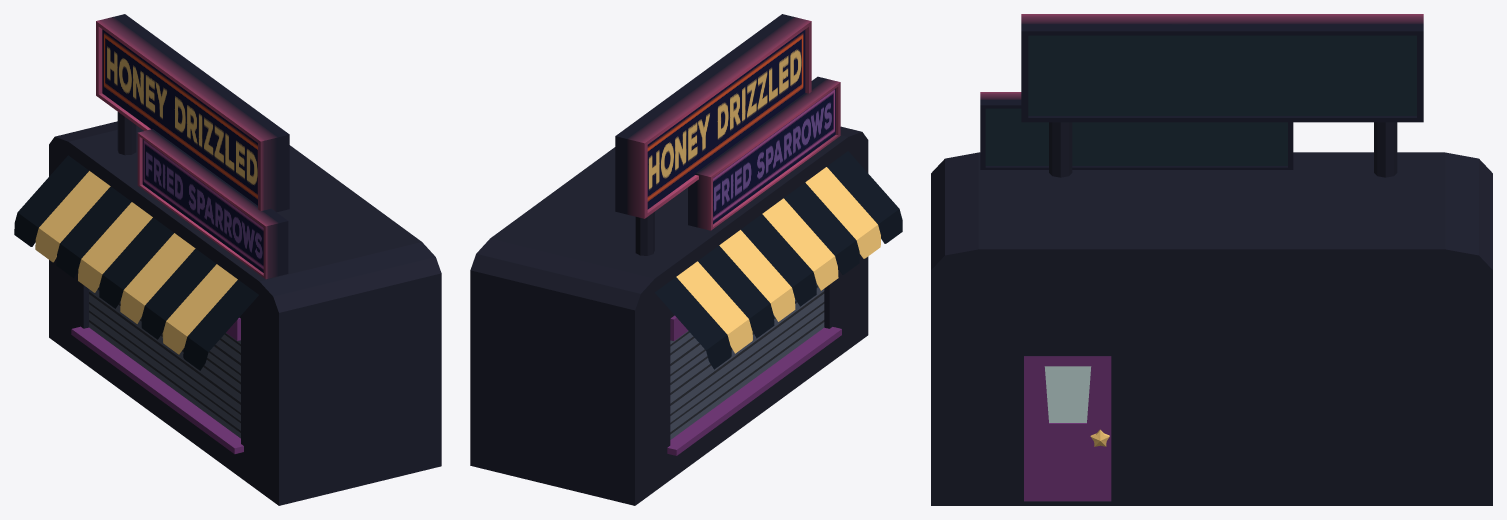
Rendered from Building_StreetCart04.fbx.
3 views of the same model, side by side, from view 1: azimuth 30°, elevation 25°; view 2: azimuth 150°, elevation 25°; view 3: azimuth 270°, elevation 25° (orthographic). The views are drawn at different scales.
Parts seen in each view (by area): view 1: Cube.715, Cube.719, Cube.713; view 2: Cube.715, Cube.719, Cube.713; view 3: Cube.715, Cube.719, Cube.718.
Boxes of the visible parts, <box> form: Cube.715: <box>14,121,441,505</box>; Cube.719: <box>96,14,289,279</box>; Cube.713: <box>89,287,240,438</box>; Cube.715: <box>470,126,902,505</box>; Cube.719: <box>615,14,840,255</box>; Cube.713: <box>670,284,824,439</box>; Cube.715: <box>931,152,1492,505</box>; Cube.719: <box>980,14,1423,177</box>; Cube.718: <box>1024,356,1111,501</box>.
Size of the model in its own units: 233 by 330 by 414.
